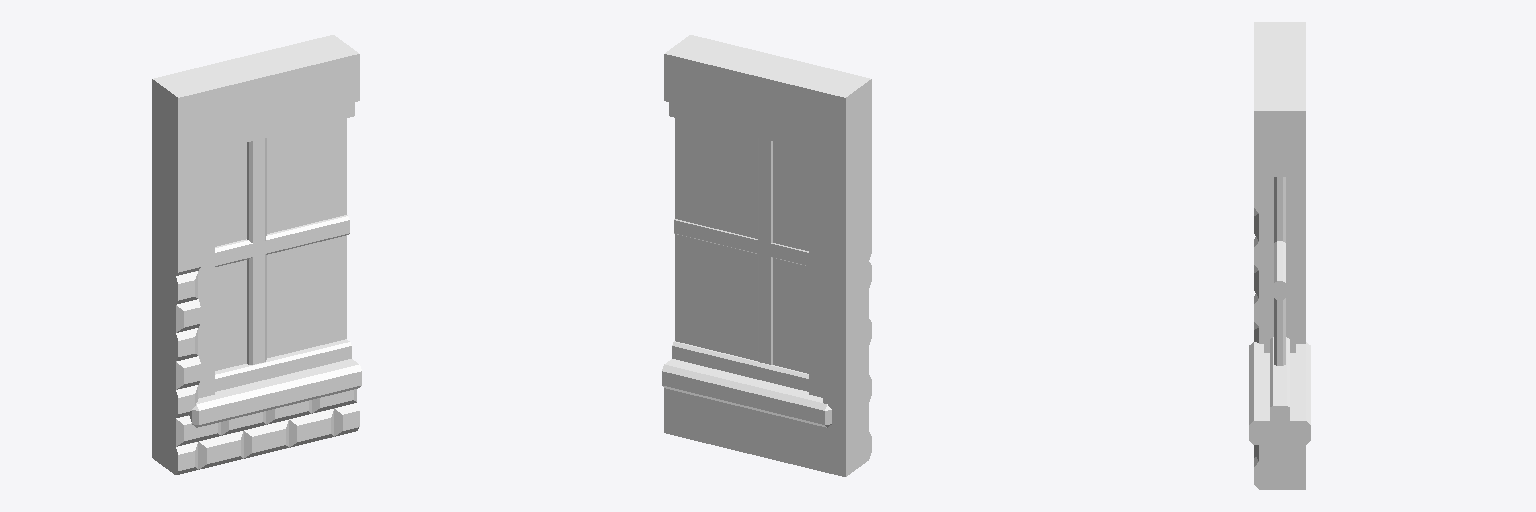
File: wall_tiles_kitchen_window_full_left.obj
3 renders of one model, left to right at view 1: azimuth 30°, elevation 25°; view 2: azimuth 150°, elevation 25°; view 3: azimuth 270°, elevation 25°, orthographic.
Visible parts, largest first — view 1: wall_tiles_kitchen_window_full_left; view 2: wall_tiles_kitchen_window_full_left; view 3: wall_tiles_kitchen_window_full_left.
Part boxes in pixels (x1,y1,x2,y2): wall_tiles_kitchen_window_full_left: (152,35,361,474); wall_tiles_kitchen_window_full_left: (662,35,871,476); wall_tiles_kitchen_window_full_left: (1249,22,1310,489).
Bounding box in the file's own units: 2 × 4 × 0.6.